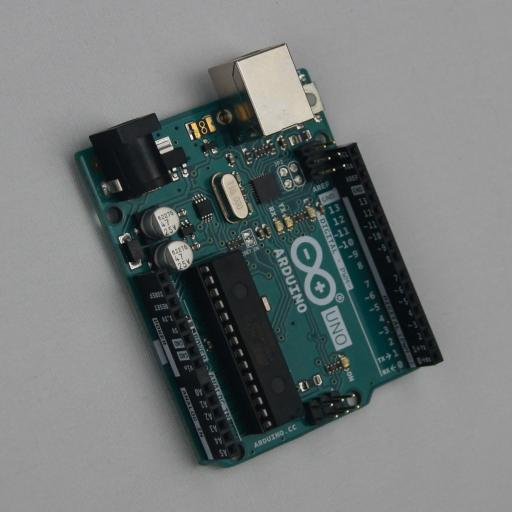Arduino Uno -Green-: (69, 43, 443, 469)
